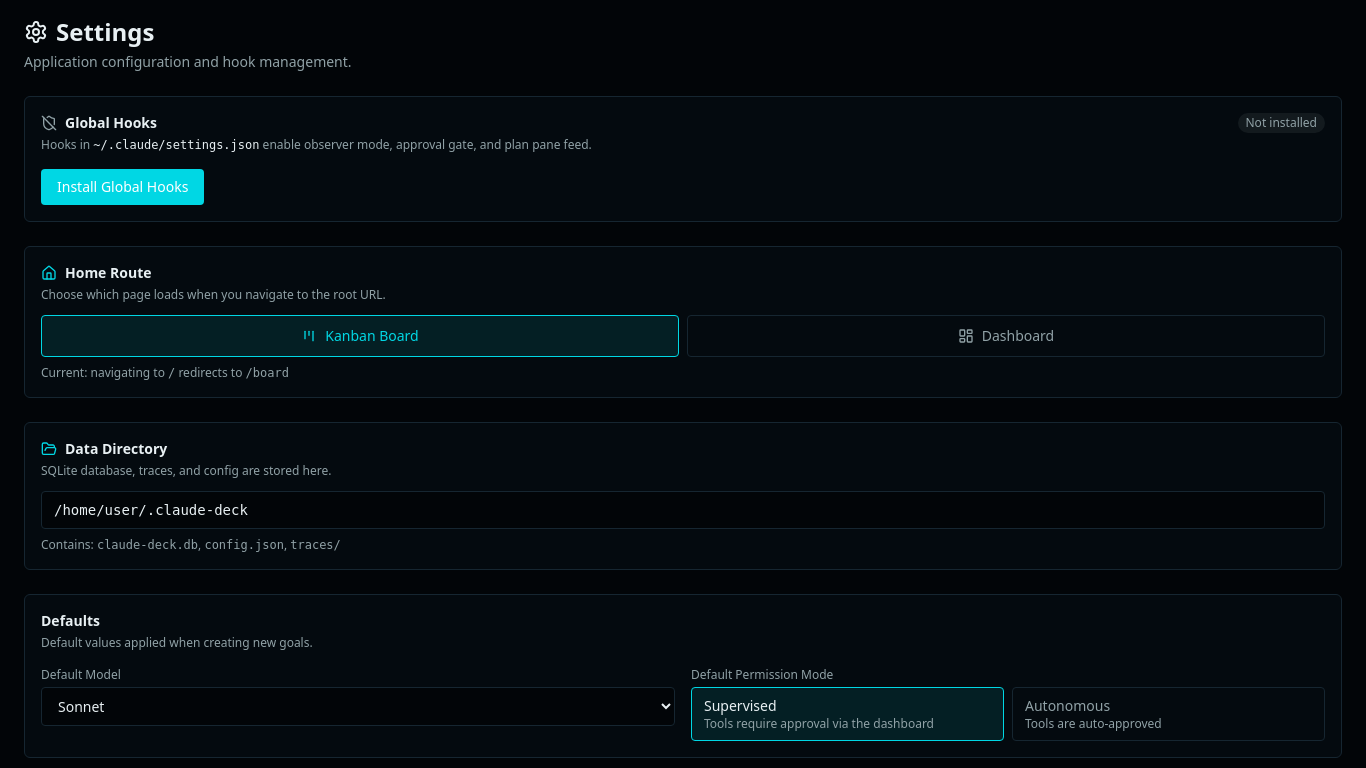
SettingsPage › shows Saved indicator after successful config update
Select "Haiku" in the dropdown labelled "Default Model": (358, 706) [41,687,675,726]
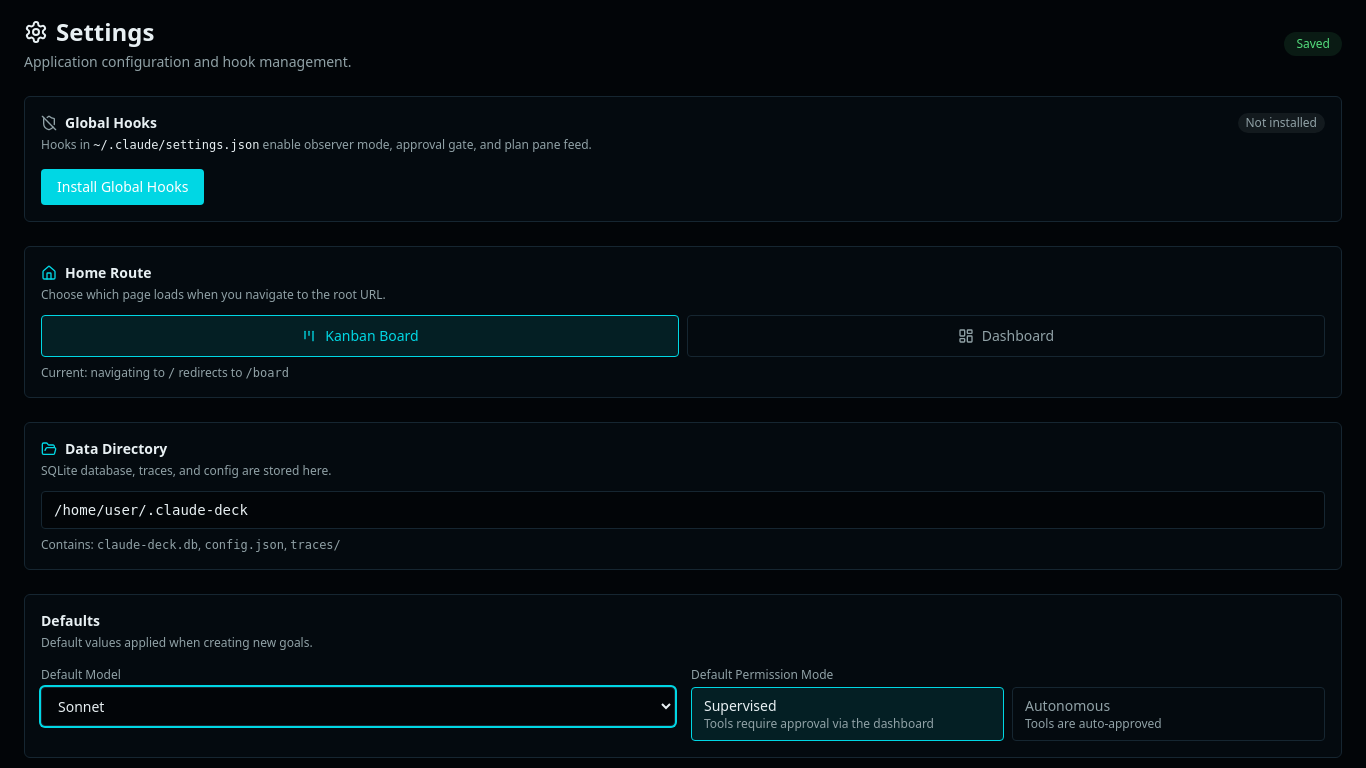
Expected: the text "Saved" is shown, [1284,32,1342,56]
